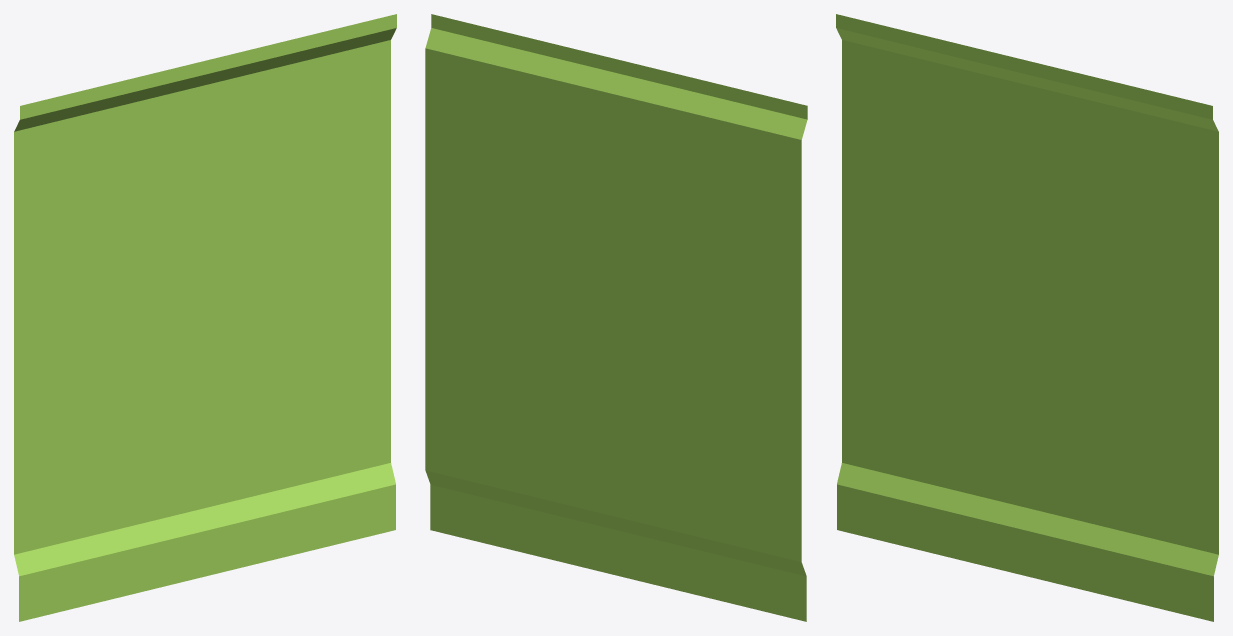
Rendered from Museum_Wall_01.fbx.
The picture shows the model from 3 angles, left to right: view 1: azimuth 30°, elevation 25°; view 2: azimuth 150°, elevation 25°; view 3: azimuth 330°, elevation 25°; orthographic projection.
Parts seen in each view (by area): view 1: Archi_Murs.001; view 2: Archi_Murs.001; view 3: Archi_Murs.001.
Part boxes in pixels (x1,y1,x2,y2): Archi_Murs.001: [14, 14, 396, 621]; Archi_Murs.001: [425, 14, 807, 621]; Archi_Murs.001: [836, 14, 1218, 621].
Bounding box in the file's own units: 525 × 688 × 14.11.
